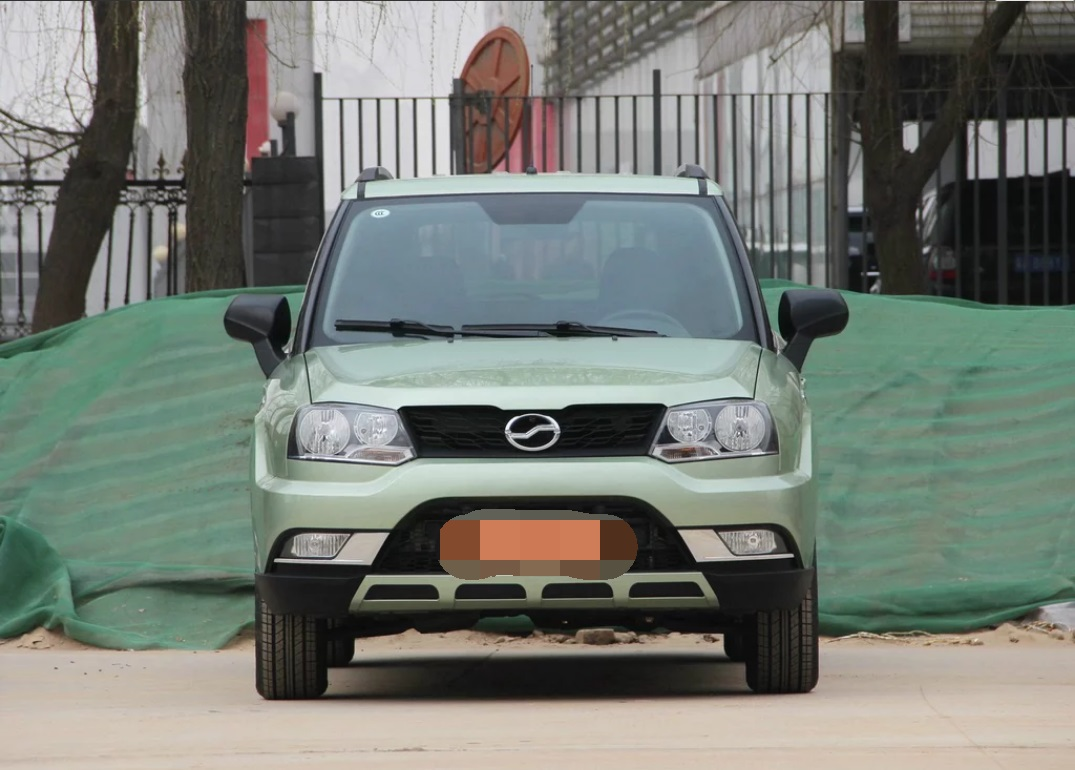SUV: (225, 162, 852, 703)
